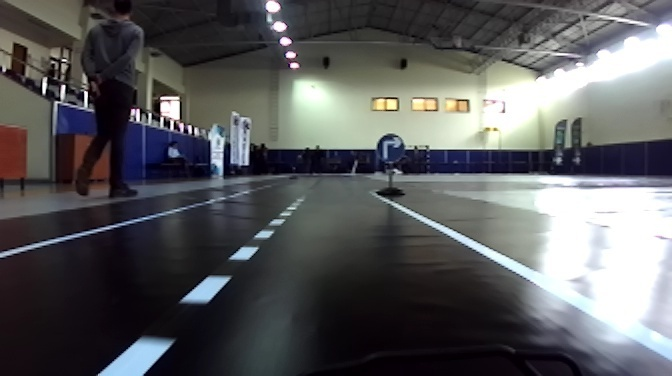saga_donus: (375, 133, 405, 164)
